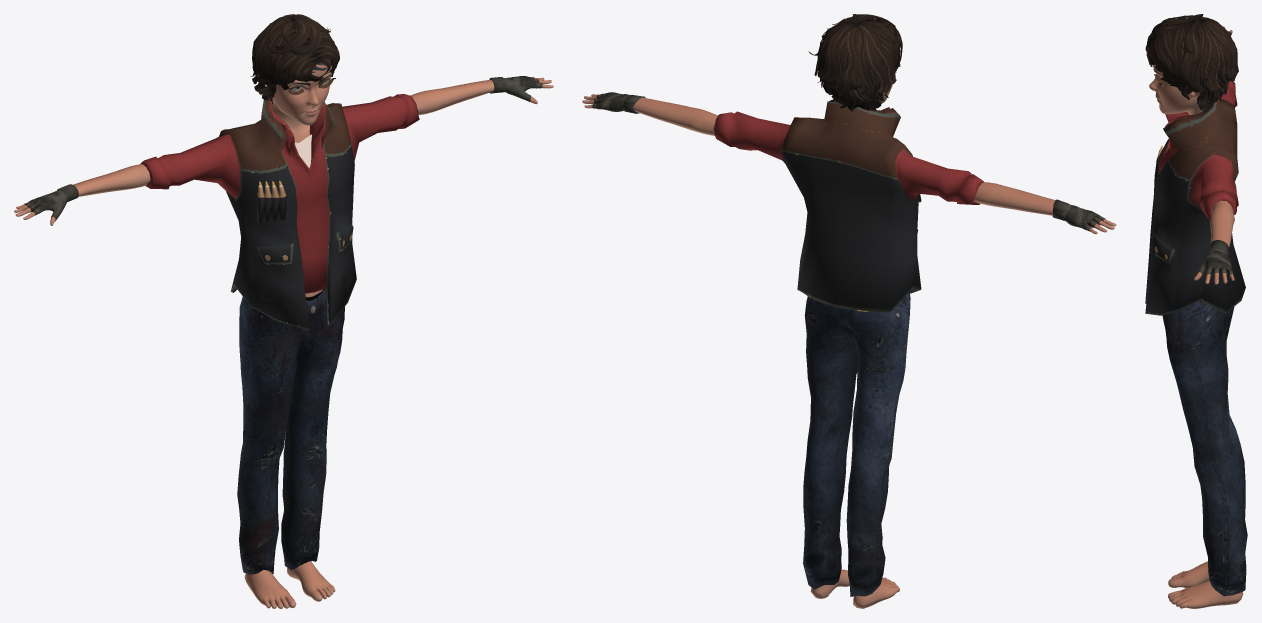
File: principal.obj
The picture shows the model from 3 angles, left to right: view 1: azimuth 30°, elevation 25°; view 2: azimuth 150°, elevation 25°; view 3: azimuth 270°, elevation 25°; orthographic projection.
Parts seen in each view (by area): view 1: Tops, Bottoms, Body, Hair, Gloves; view 2: Tops, Bottoms, Hair, Body, Gloves; view 3: Tops, Bottoms, Hair, Body, Gloves.
Part boxes in pixels (x1,y1,x2,y2): Tops: (140,94,419,330); Bottoms: (237,288,344,574); Body: (14,59,553,608); Hair: (250,14,339,103); Gloves: (24,76,542,220); Tops: (713,100,983,312); Bottoms: (803,291,910,596); Hair: (808,14,902,111); Body: (582,84,1116,608); Gloves: (592,92,1105,231); Tops: (1145,81,1245,315); Bottoms: (1162,300,1247,596); Hair: (1145,14,1238,112); Body: (1149,26,1243,608); Gloves: (1198,31,1233,276).
Size of the model in its own units: 163 by 169 by 27.06.
5 materials, 5 textured.
